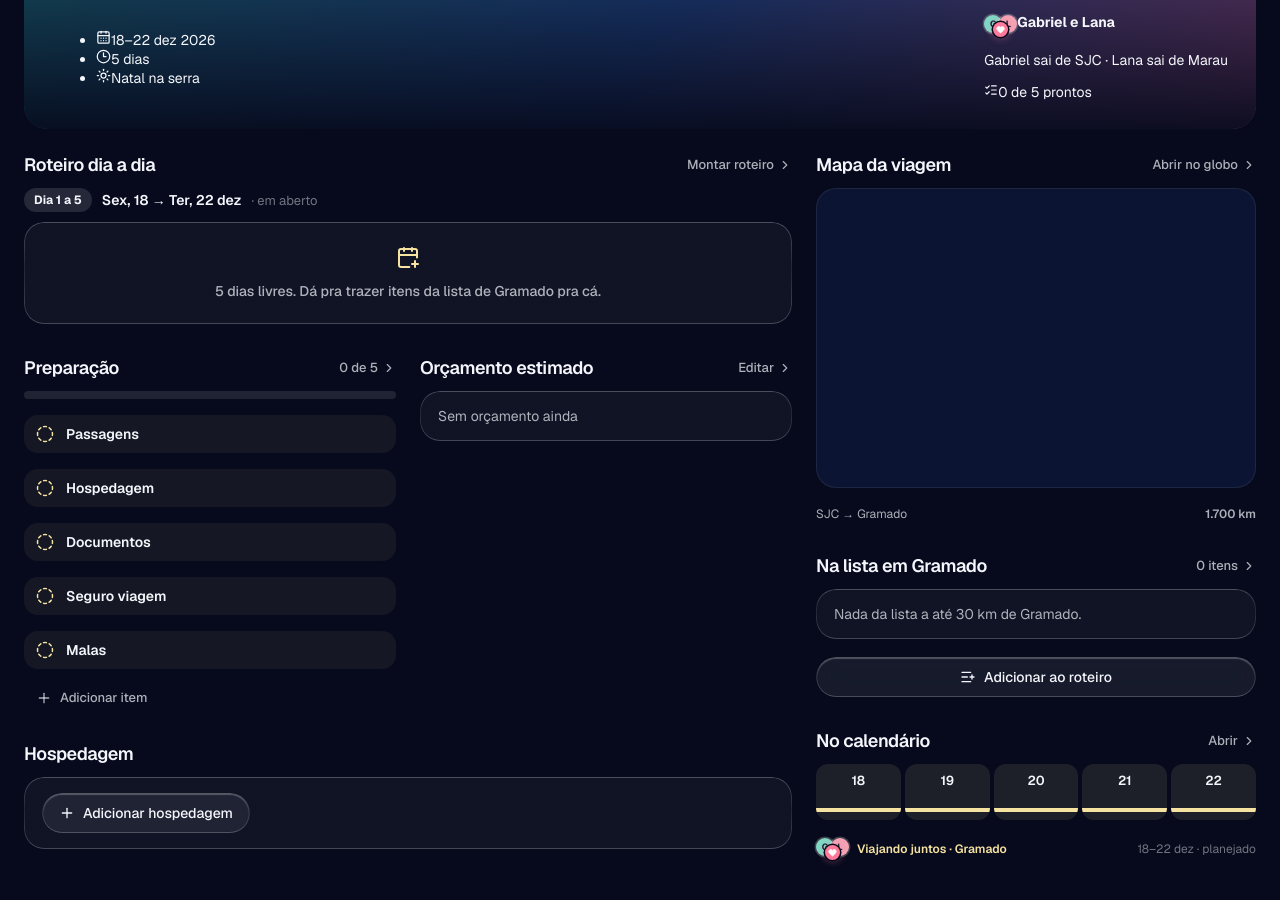
Scenario: R20d — hospedagem › link sem http(s) é recusado pelo domínio
(page scrolled)
Click the button "Adicionar hospedagem" at (146, 813), box [42, 793, 250, 833]
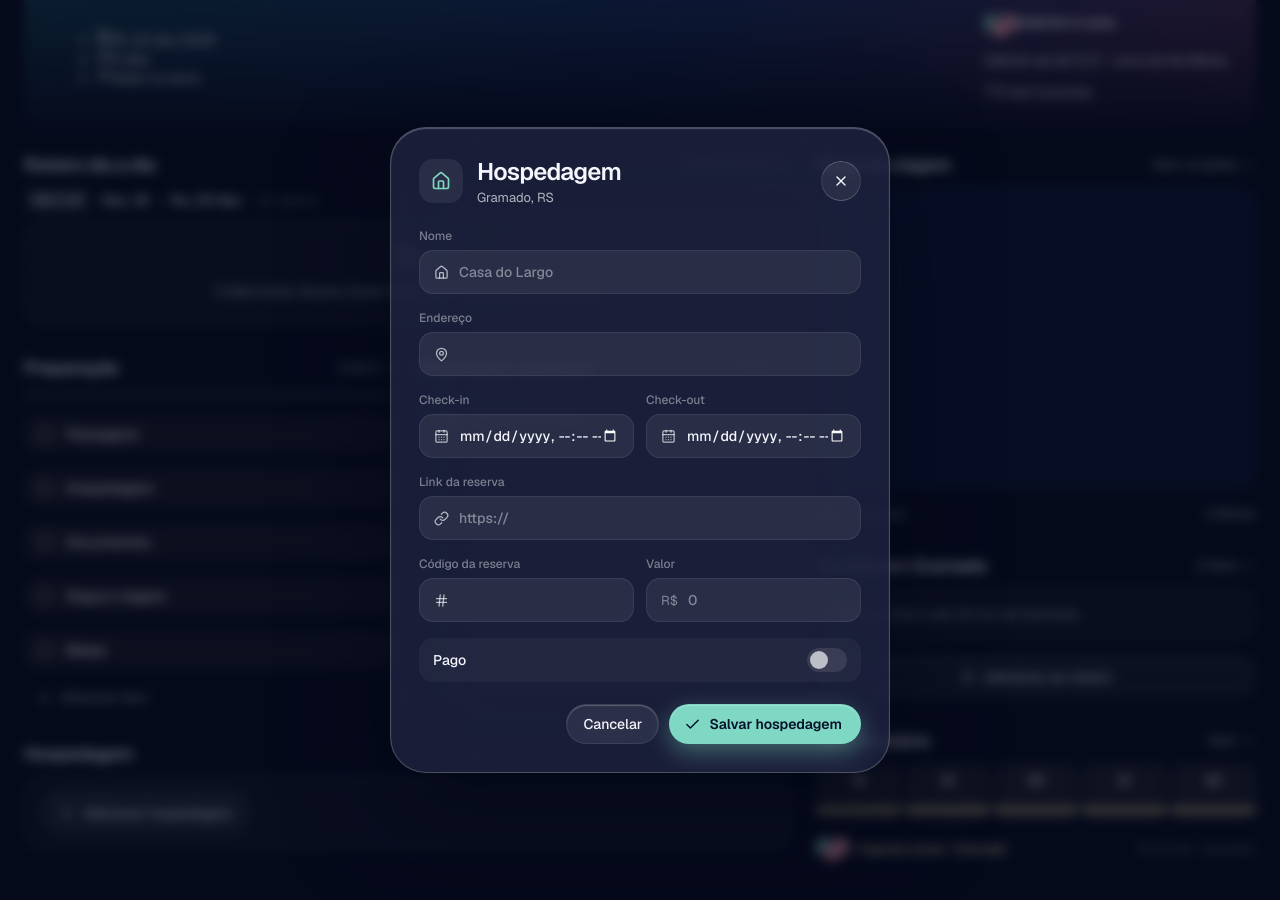
Type "Pousada da Serra" into the field labelled "Nome" at (652, 272), box [459, 252, 846, 292]
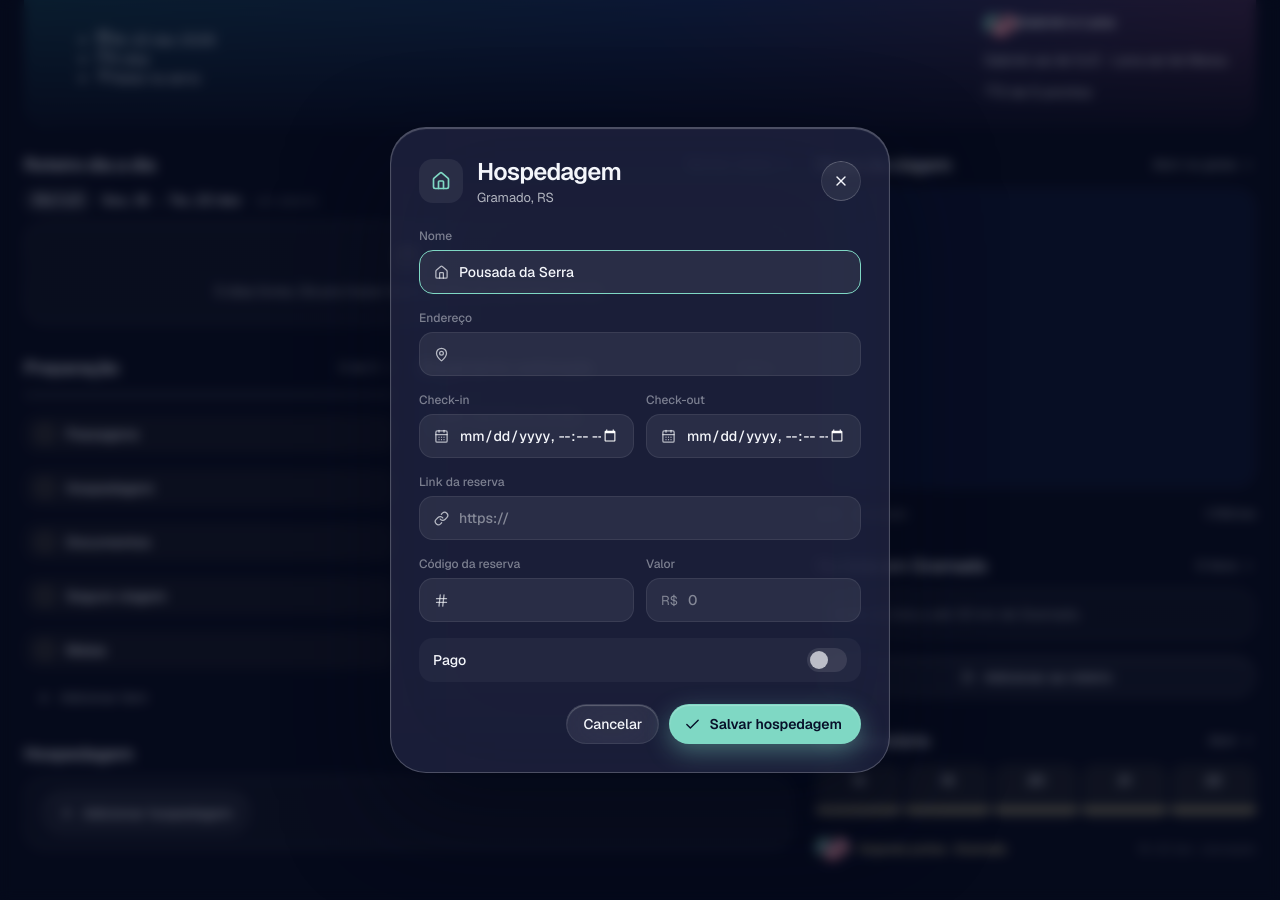
Type "pousada.com.br" into the field labelled "Link da reserva" at (652, 518), box [459, 498, 846, 538]
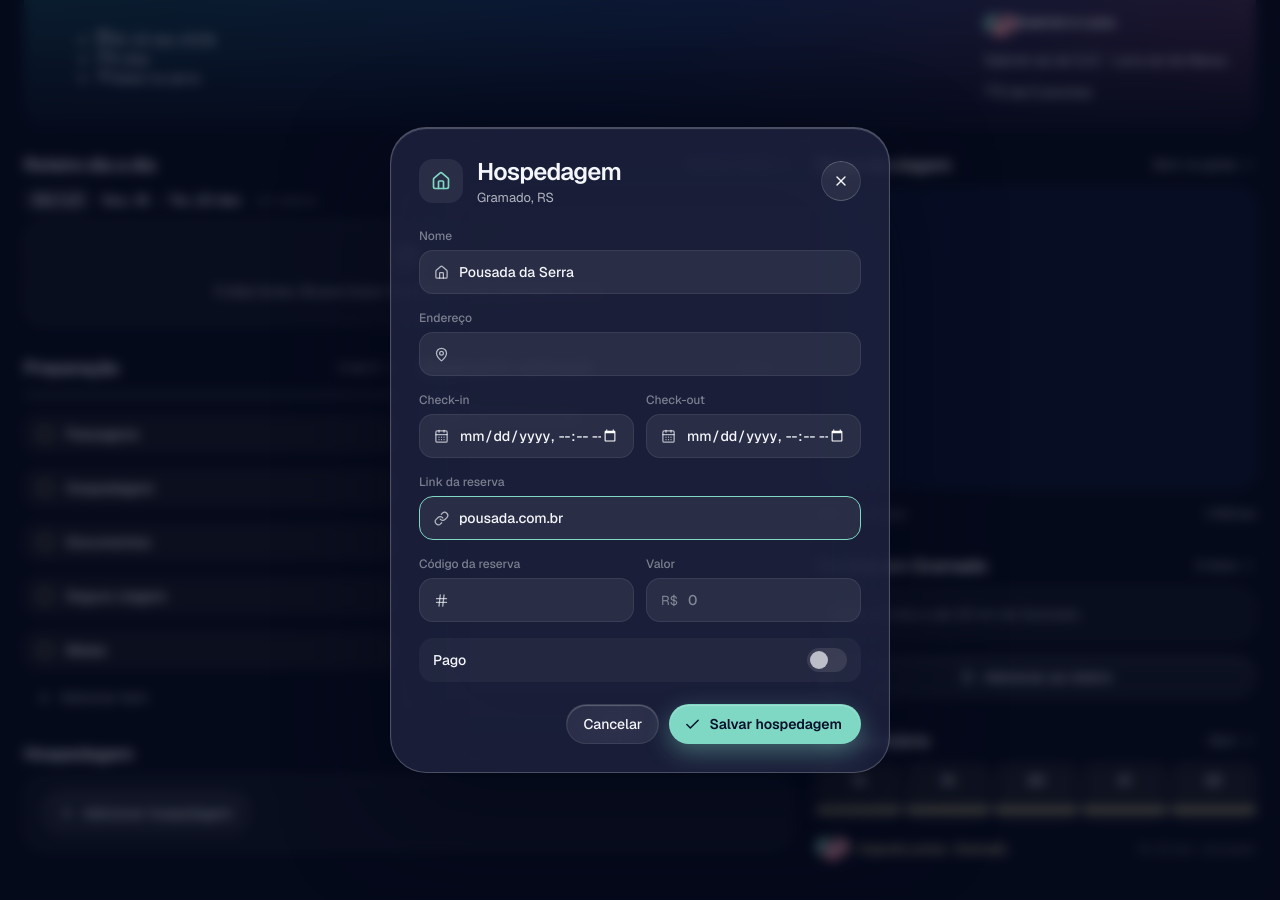
Click the button "Salvar hospedagem" at (765, 724), box [669, 704, 861, 744]
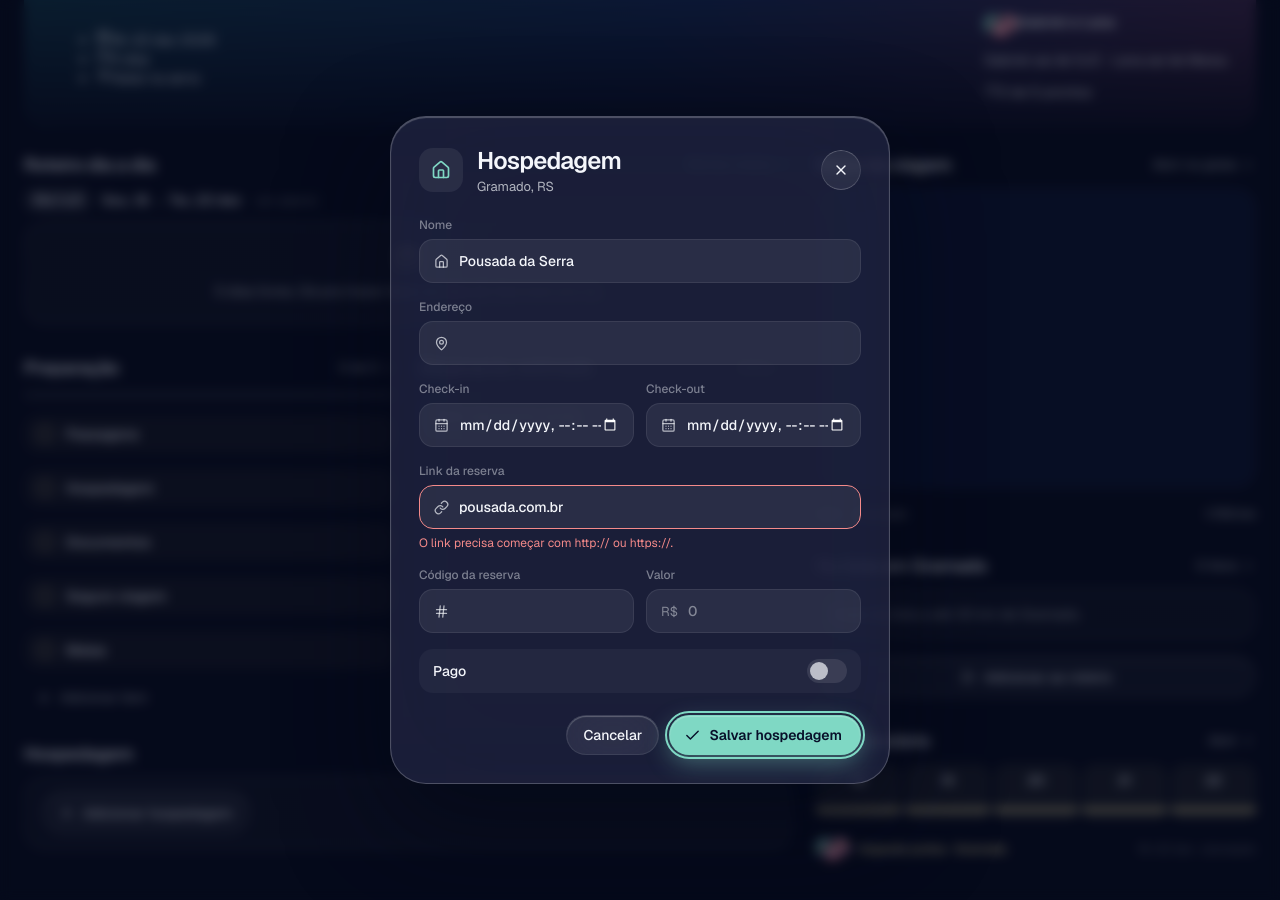
Now the text "O link precisa começar com http:// ou https://." is shown, box [419, 535, 673, 551]
